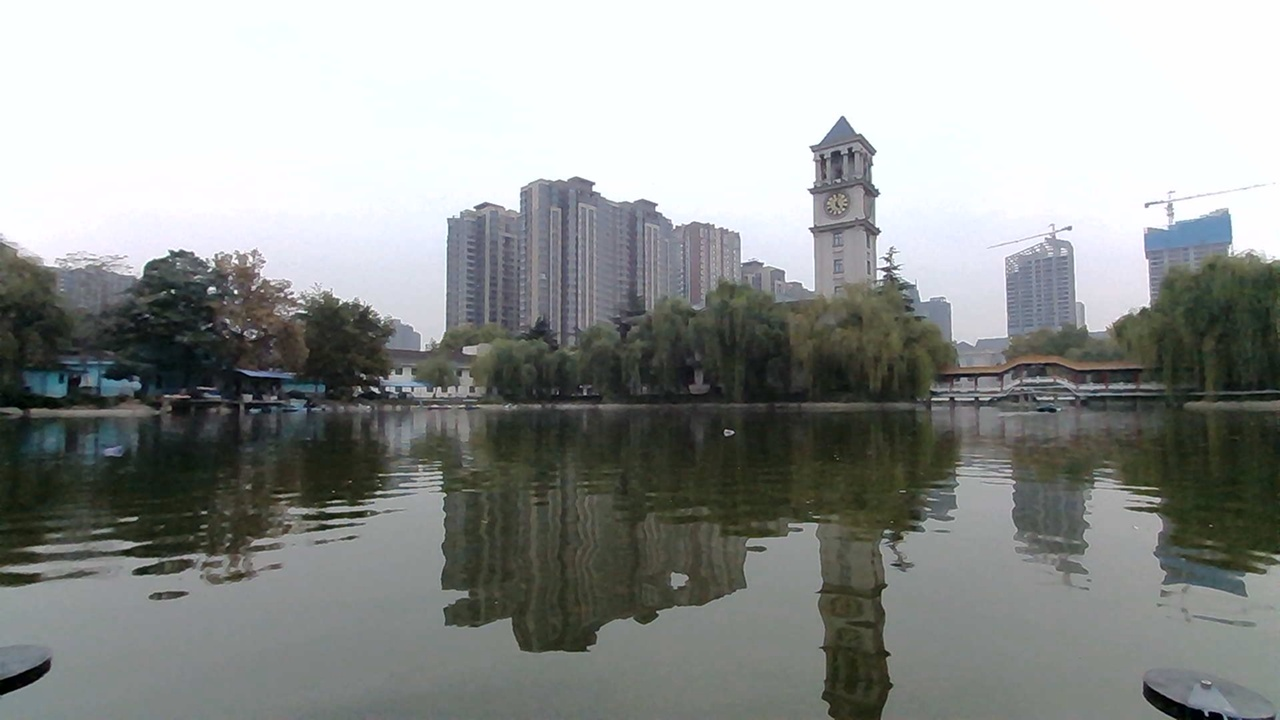bottle: (92, 429, 141, 466), (706, 414, 749, 443)
